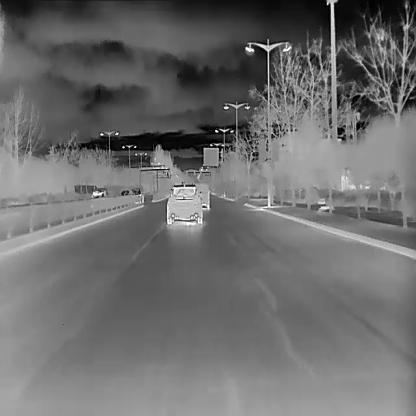car: (165, 183, 204, 224), (192, 181, 210, 209), (90, 184, 119, 200), (128, 186, 144, 205), (119, 189, 130, 199)
